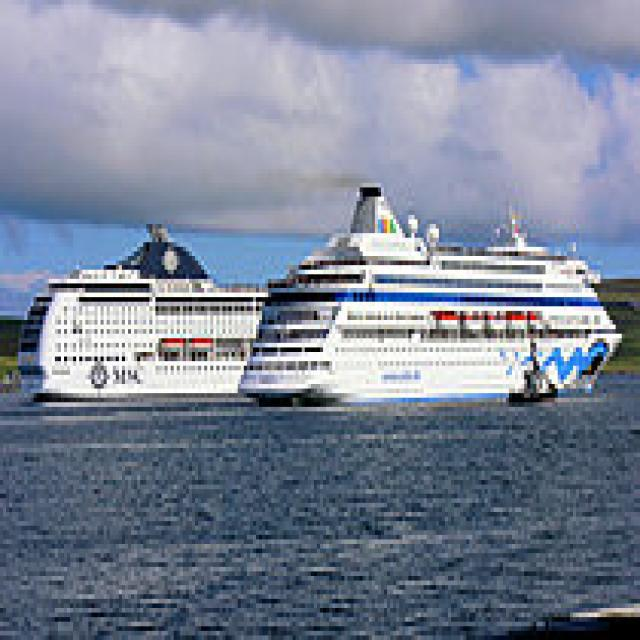Ship: (233, 152, 629, 413), (7, 239, 275, 412)
